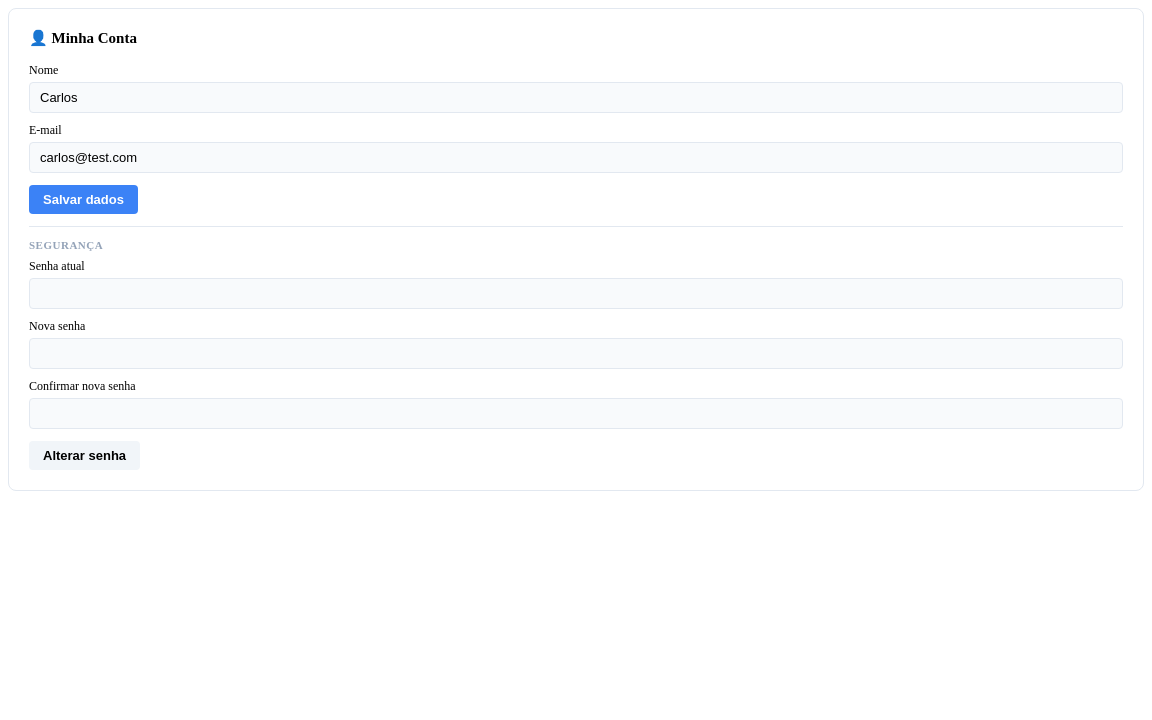
Test case: ContaCard — validação de senha › shows error when passwords do not match
Type "atual123" into the password field below "Senha atual".
click(576, 294); type("atual123")  # box [29, 278, 1123, 309]
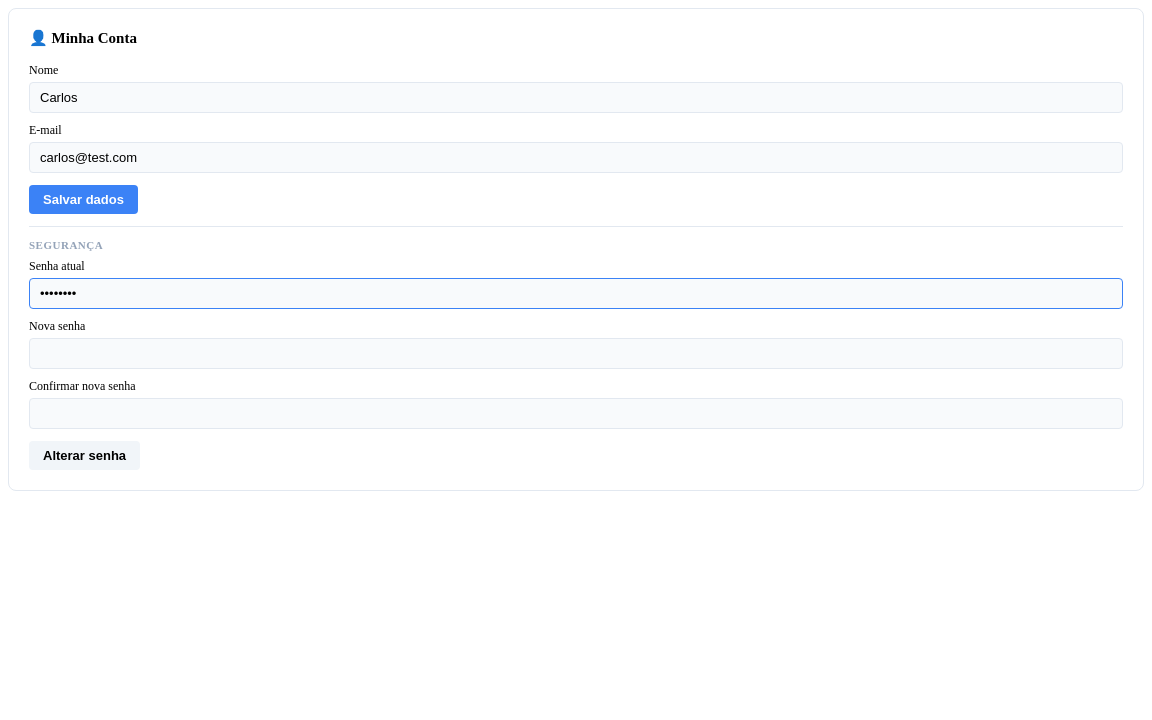
Type "nova123" into the 2nd password field.
click(576, 354); type("nova123")  # box [29, 338, 1123, 369]
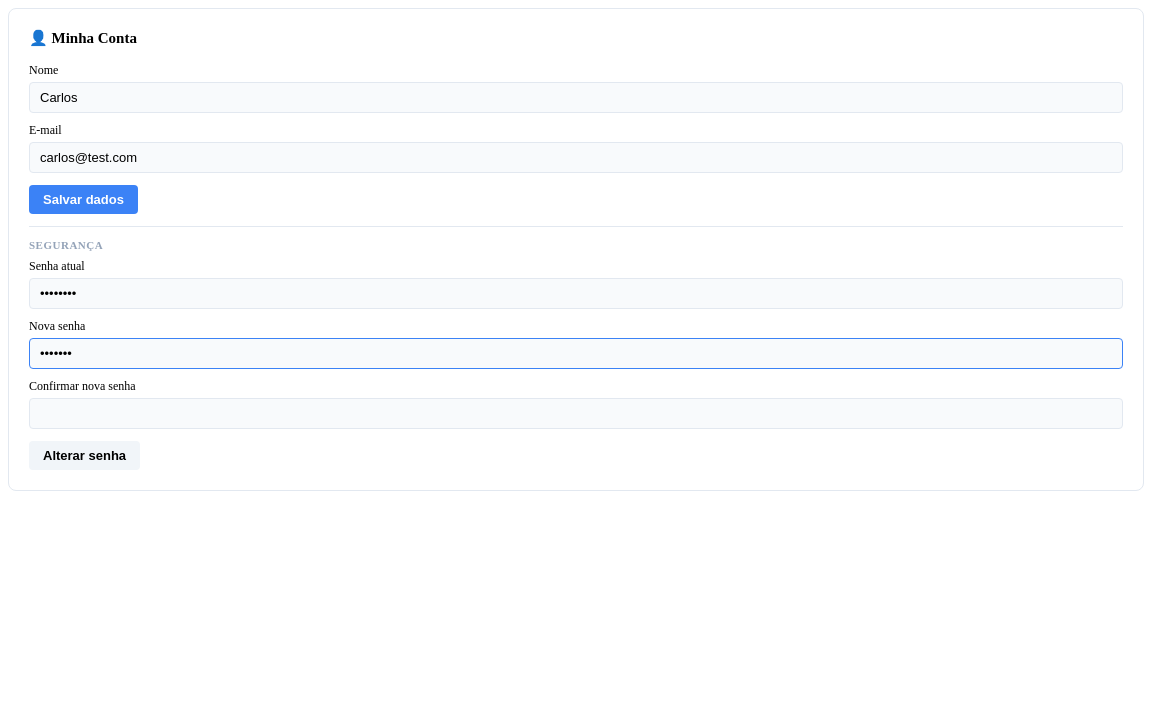
Type "diferente" into the password field below "Confirmar nova senha".
click(576, 414); type("diferente")  # box [29, 398, 1123, 429]
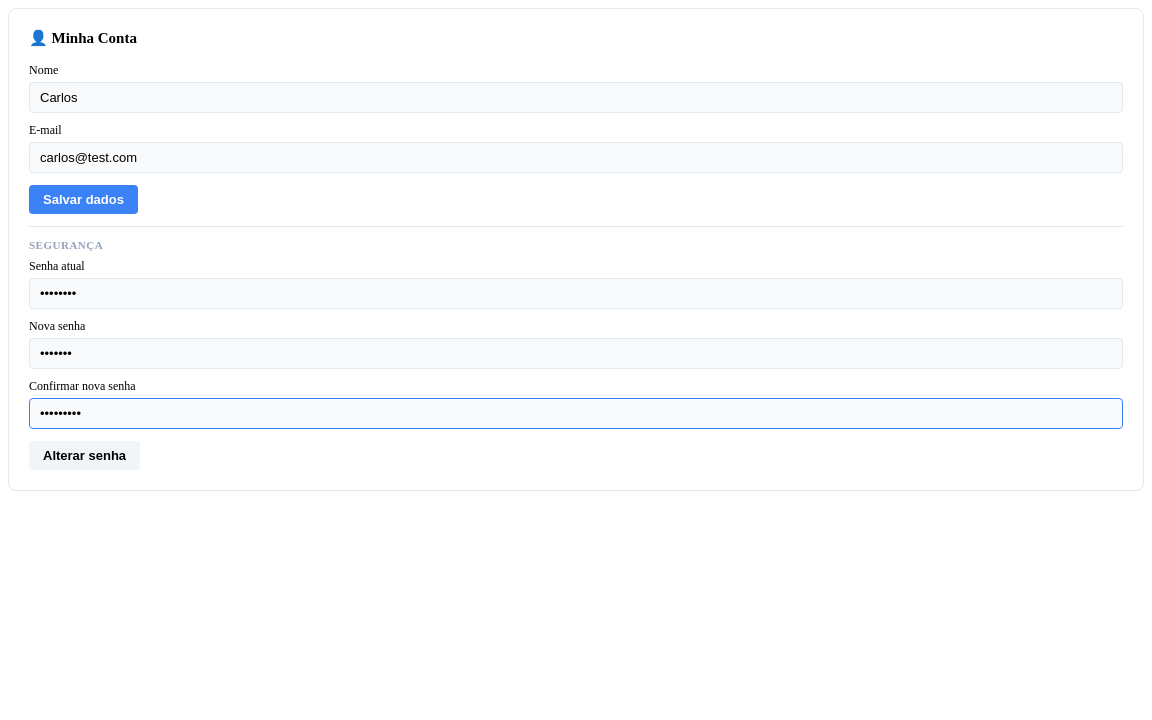
Click the button "Alterar senha".
click(85, 456)  # box [29, 441, 140, 470]
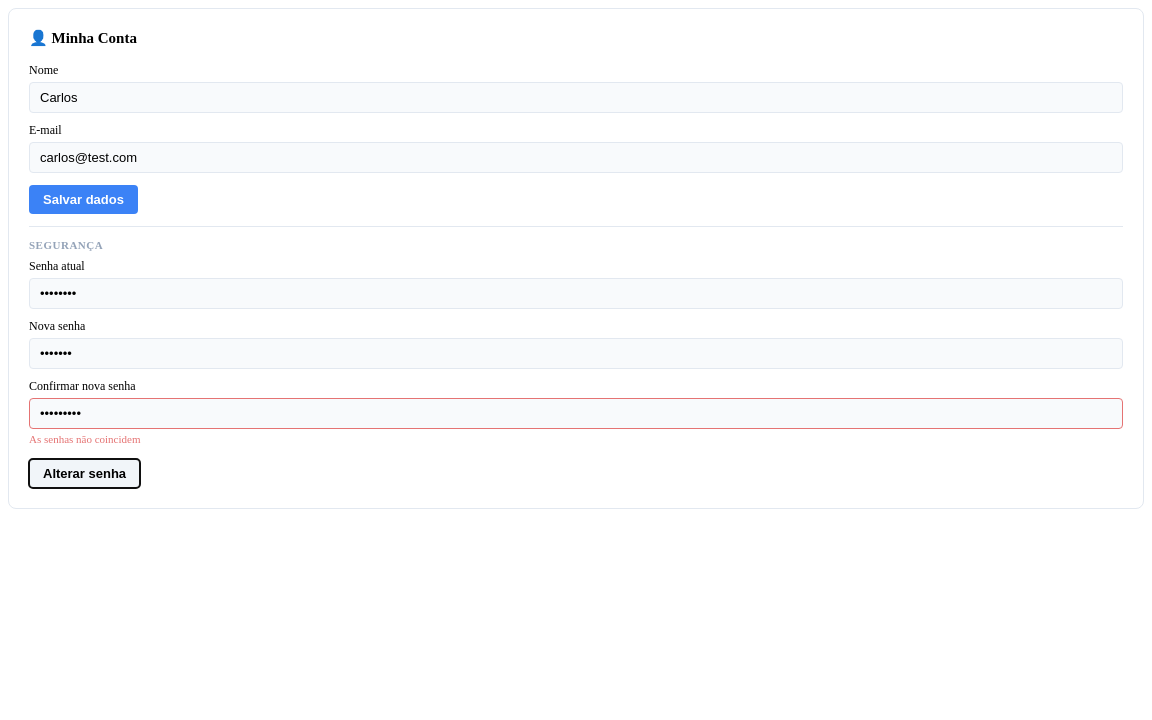
Now the text "As senhas não coincidem" is shown, box [29, 433, 140, 445]
